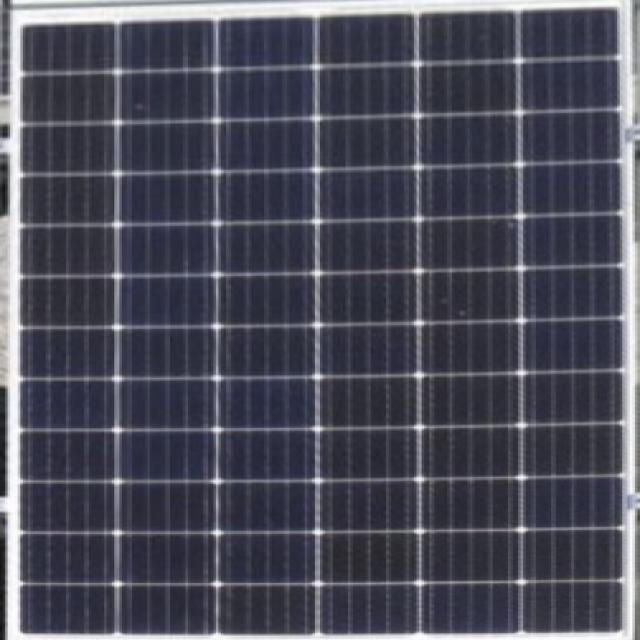clean-solar-panel: (20, 11, 624, 636)
